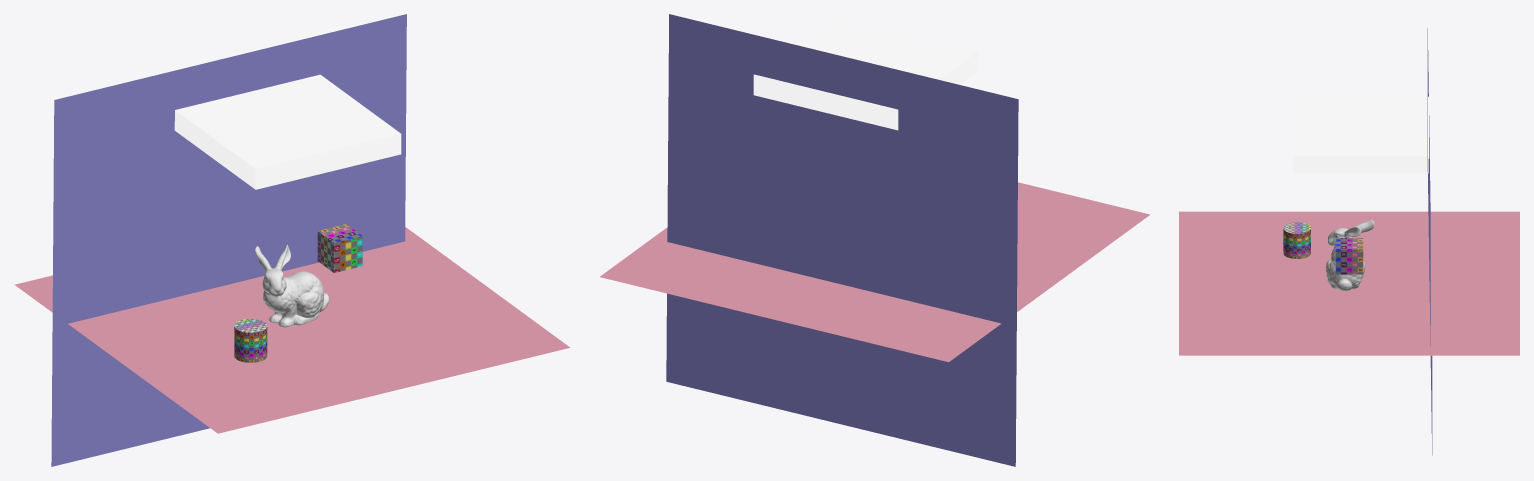
File: pathtracer_test_microfacet.gltf
3 views of the same model, side by side, from view 1: azimuth 30°, elevation 25°; view 2: azimuth 150°, elevation 25°; view 3: azimuth 270°, elevation 25° (orthographic). The views are drawn at different scales.
Parts seen in each view (by area): view 1: Plane.002, Plane.001, Cube.002, bun_zipper, Cube.003, Cylinder; view 2: Plane.002, Plane.001, Cube.002; view 3: Plane.001, Cube.002, bun_zipper, Cube.003, Cylinder, Plane.002.
Boxes of the visible parts, <box> form: Plane.002: <box>51,14,406,466</box>; Plane.001: <box>14,227,570,433</box>; Cube.002: <box>174,74,401,189</box>; bun_zipper: <box>255,244,329,327</box>; Cube.003: <box>317,224,362,272</box>; Cylinder: <box>234,319,267,362</box>; Plane.002: <box>666,14,1018,466</box>; Plane.001: <box>600,182,1149,362</box>; Cube.002: <box>753,16,978,130</box>; Plane.001: <box>1179,211,1519,355</box>; Cube.002: <box>1292,96,1428,173</box>; bun_zipper: <box>1325,220,1374,291</box>; Cube.003: <box>1335,238,1363,274</box>; Cylinder: <box>1283,222,1310,258</box>; Plane.002: <box>1427,28,1432,455</box>.
Bounding box in the file's own units: 25.67 × 24.6 × 24.61.
Materials: 6 (2 with a texture image).
